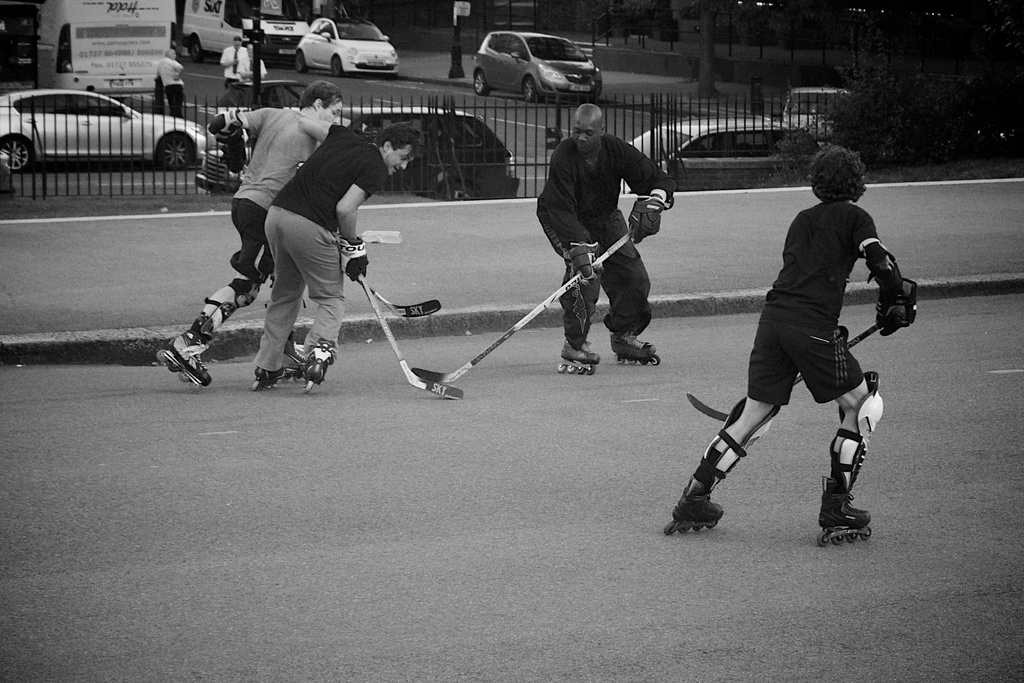Person: (672, 141, 914, 532), (151, 46, 186, 112), (248, 42, 266, 81)
